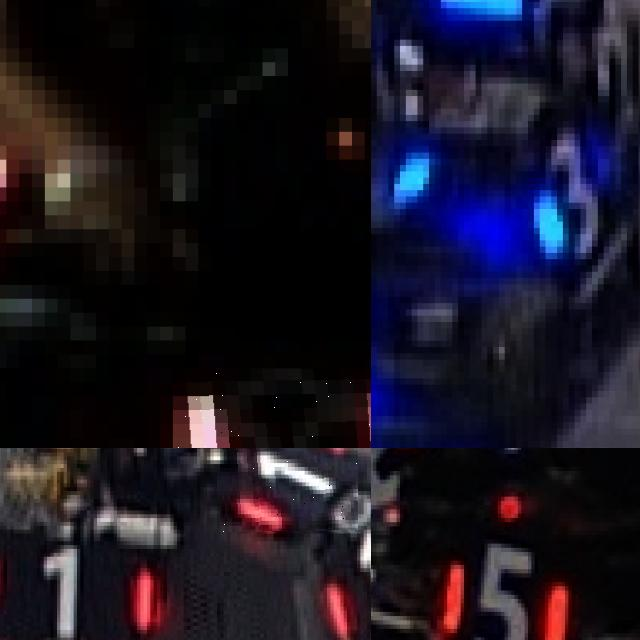B3: (528, 128, 621, 260)
R1: (0, 533, 162, 640), (220, 448, 360, 531), (305, 493, 371, 640)
R5: (440, 535, 571, 640)
Rs: (173, 368, 371, 448)
